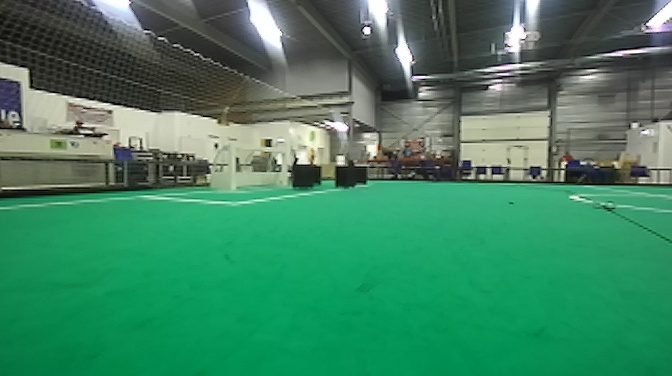goalpost: (225, 142, 239, 191), (275, 142, 290, 185)
